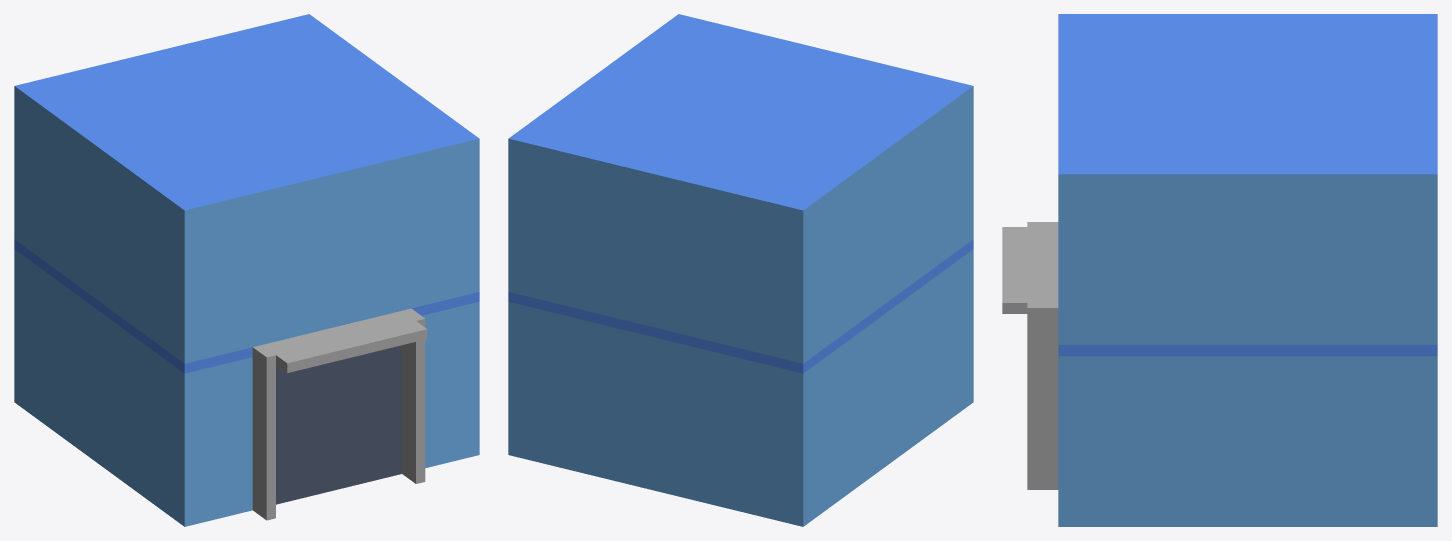
File: building_1x1_8_g.glb
The picture shows the model from 3 angles, left to right: view 1: azimuth 30°, elevation 25°; view 2: azimuth 150°, elevation 25°; view 3: azimuth 270°, elevation 25°; orthographic projection. The views are drawn at different scales.
Visible parts, largest first — view 1: Cube; view 2: Cube; view 3: Cube.
Part boxes in pixels (box(x1,y1,x2,y2)): Cube: box(14, 14, 479, 526); Cube: box(508, 14, 973, 526); Cube: box(1002, 14, 1437, 526).
Bounding box in the file's own units: 1.56 × 1.6 × 1.79.
